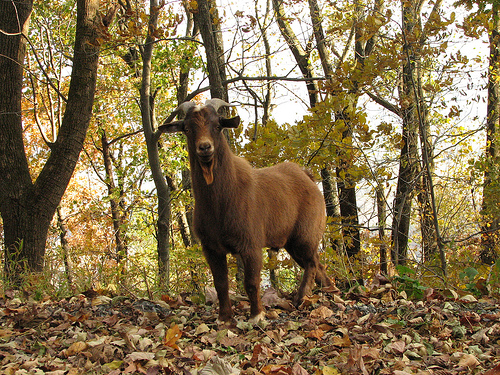goat: (157, 98, 337, 321)
